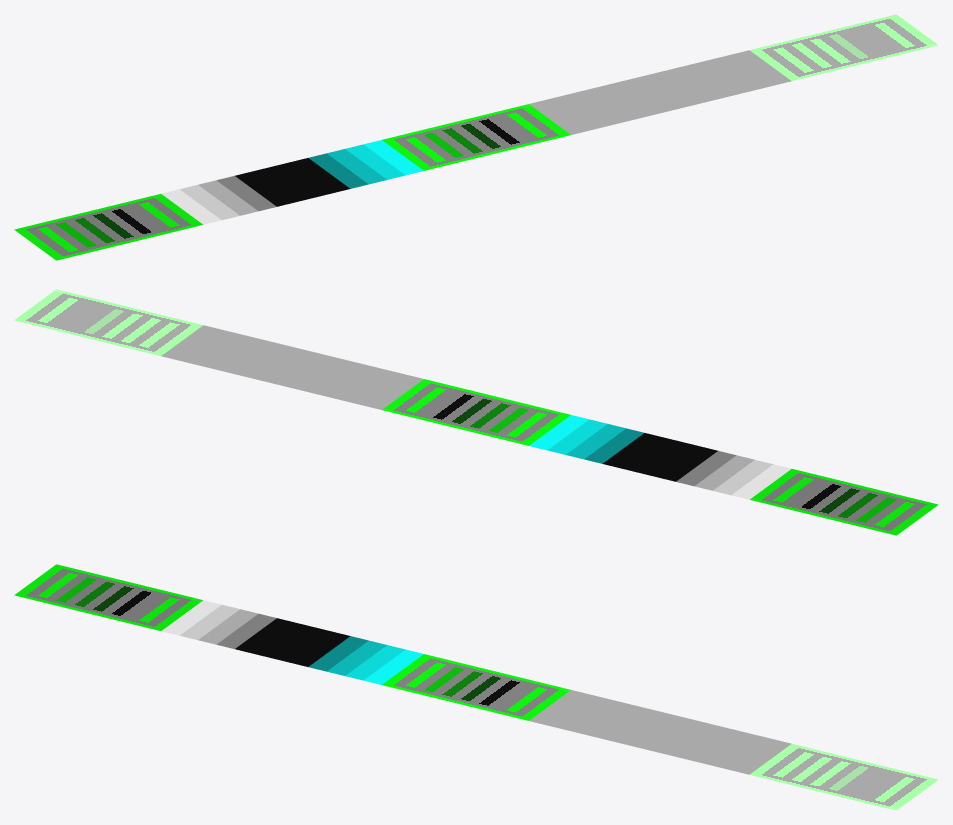
The model's file is sample-strip.glb.
The picture shows the model from 3 angles, top to bottom: view 1: azimuth 30°, elevation 25°; view 2: azimuth 150°, elevation 25°; view 3: azimuth 330°, elevation 25°; orthographic projection.
Parts seen in each view (by area): view 1: Sample Strip; view 2: Sample Strip; view 3: Sample Strip.
Part boxes in pixels (box(x1,y1,x2,y2)): Sample Strip: box(14, 14, 938, 260); Sample Strip: box(14, 289, 938, 535); Sample Strip: box(14, 564, 938, 810).
Bounding box in the file's own units: 12 × 0 × 1.
13 materials, 2 textured.
